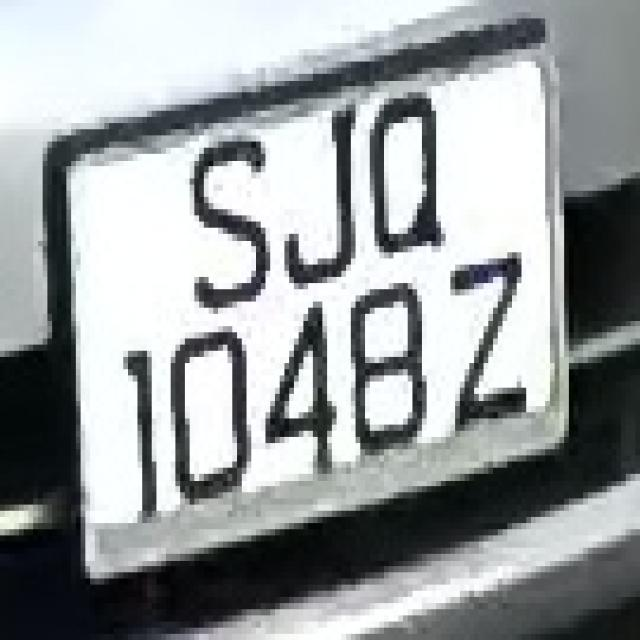0: (156, 308, 256, 529)
1: (118, 332, 176, 548)
4: (237, 296, 346, 498)
8: (342, 271, 432, 486)
J: (280, 86, 370, 302)
Q: (356, 68, 450, 264)
S: (170, 111, 280, 332)
Z: (436, 246, 545, 449)
